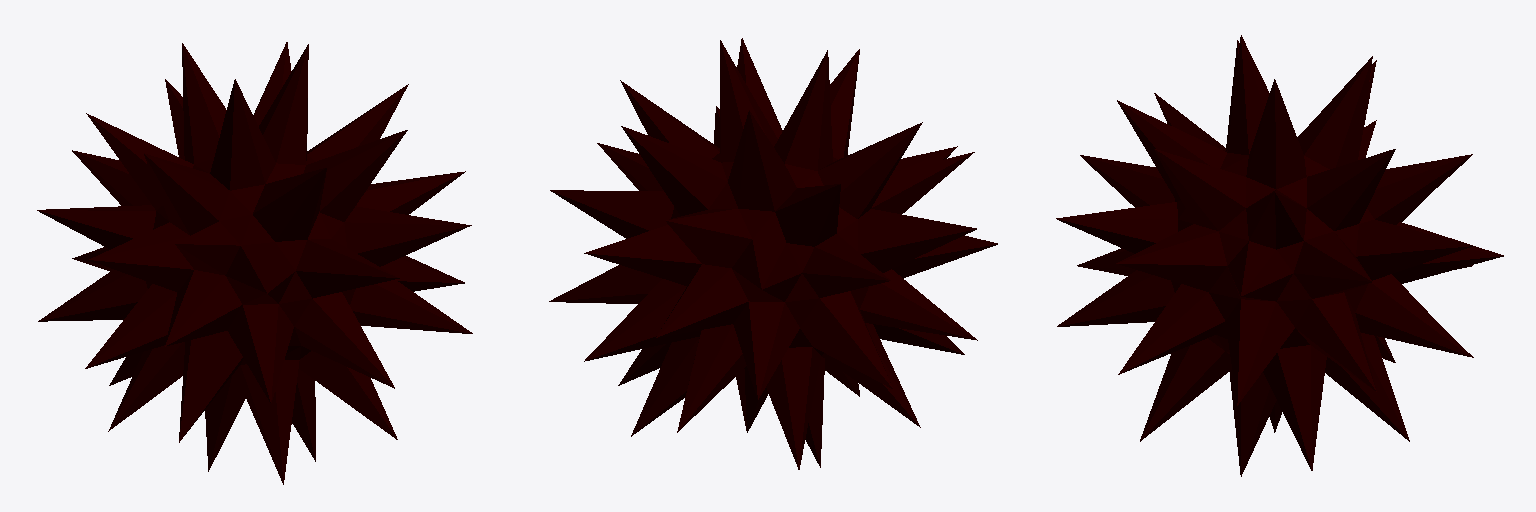
The model's file is spikey.obj.
3 renders of one model, left to right at view 1: azimuth 30°, elevation 25°; view 2: azimuth 150°, elevation 25°; view 3: azimuth 270°, elevation 25°, orthographic.
Visible parts, largest first — view 1: Icosphere; view 2: Icosphere; view 3: Icosphere.
Boxes of the visible parts, x1,y1,x2,y2 form: Icosphere: [37, 42, 472, 484]; Icosphere: [549, 38, 997, 469]; Icosphere: [1056, 35, 1503, 476].
Size of the model in its own units: 1.91 by 1.94 by 1.96.